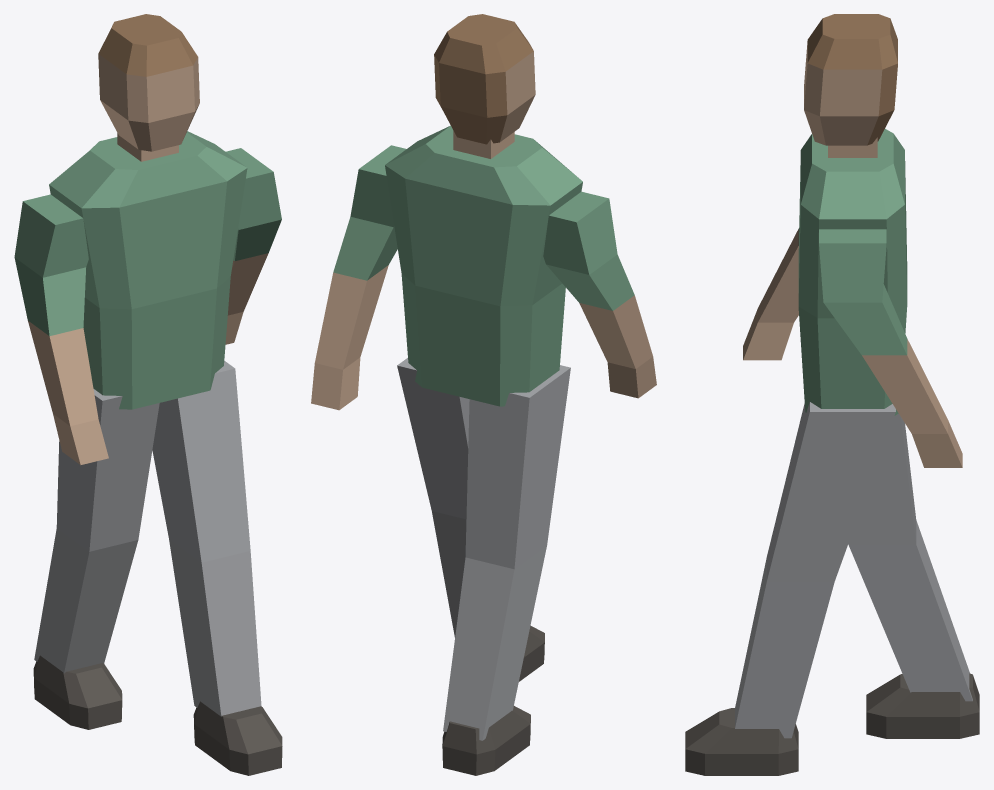
The model's file is pedestrian_5_left.fbx.
3 renders of one model, left to right at view 1: azimuth 30°, elevation 25°; view 2: azimuth 150°, elevation 25°; view 3: azimuth 270°, elevation 25°, orthographic. The views are drawn at different scales.
Visible parts, largest first — view 1: pedestrian_5_left; view 2: pedestrian_5_left; view 3: pedestrian_5_left.
Part boxes in pixels (x1,y1,x2,y2): pedestrian_5_left: (14,14,282,775); pedestrian_5_left: (311,14,656,775); pedestrian_5_left: (685,14,979,775).
Bounding box in the file's own units: 0.662 × 1.75 × 0.65.
